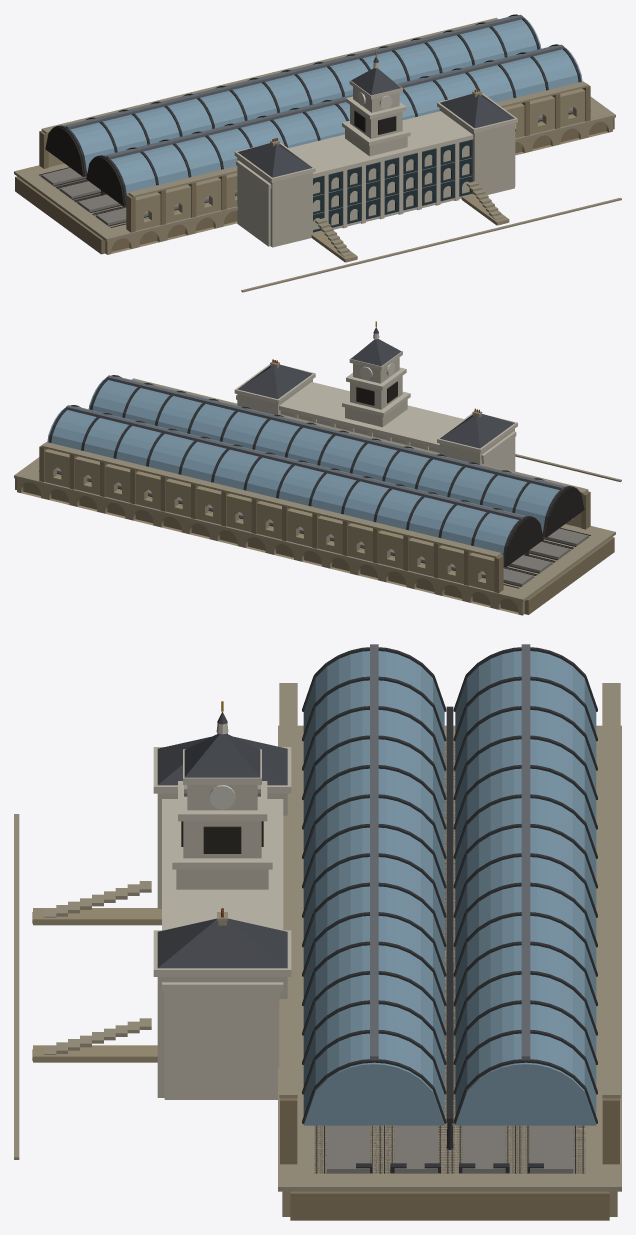
Rendered from broad_street_station.glb.
The picture shows the model from 3 angles, top to bottom: view 1: azimuth 30°, elevation 25°; view 2: azimuth 150°, elevation 25°; view 3: azimuth 270°, elevation 25°; orthographic projection. The views are drawn at different scales.
Visible parts, largest first — view 1: broad_street_station; view 2: broad_street_station; view 3: broad_street_station.
Boxes of the visible parts, bbox=[...] form: broad_street_station: bbox=[14, 14, 621, 292]; broad_street_station: bbox=[14, 321, 621, 615]; broad_street_station: bbox=[14, 644, 621, 1220].
Bounding box in the file's own units: 203 × 58.4 × 112.
